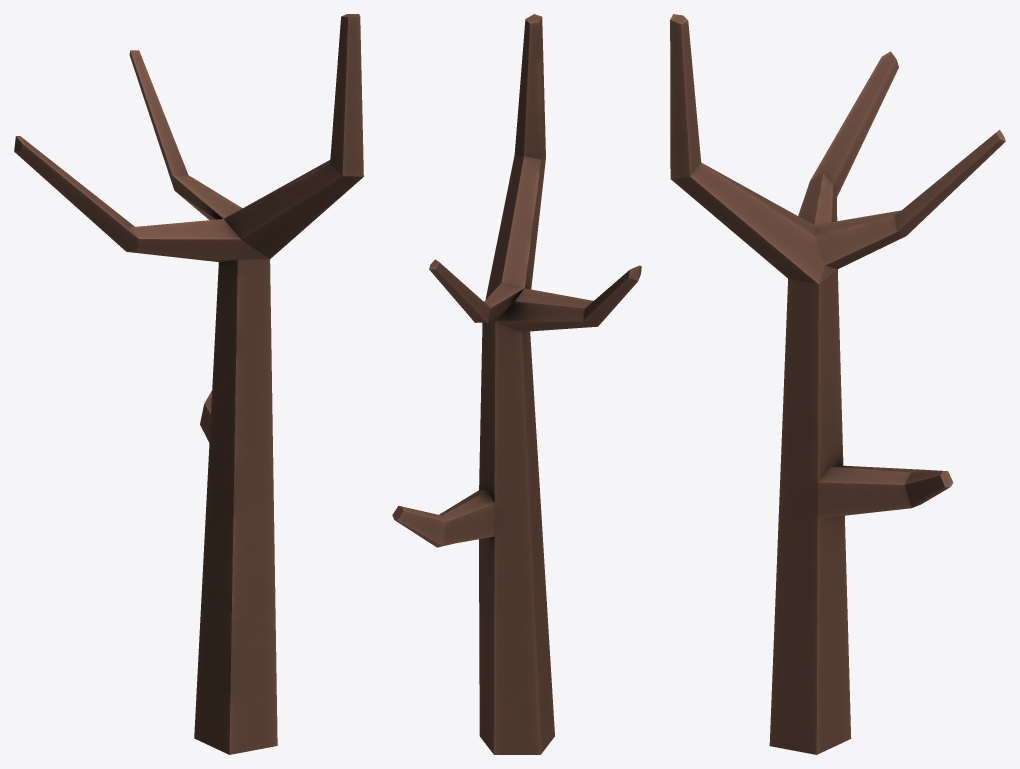
File: Tree_6.fbx
The picture shows the model from 3 angles, left to right: view 1: azimuth 30°, elevation 25°; view 2: azimuth 150°, elevation 25°; view 3: azimuth 270°, elevation 25°; orthographic projection. The views are drawn at different scales.
Parts seen in each view (by area): view 1: Tree_6; view 2: Tree_6; view 3: Tree_6.
Boxes of the visible parts, x1,y1,x2,y2 form: Tree_6: (14,14,363,754); Tree_6: (392,14,641,754); Tree_6: (670,14,1005,754).
Size of the model in its own units: 34.36 by 99.01 by 40.59.
